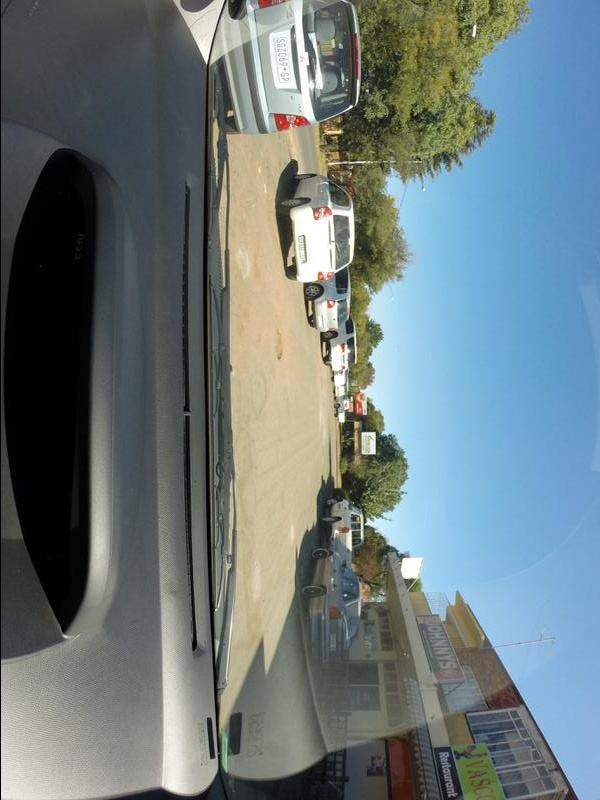pothole: (271, 326, 288, 364)
